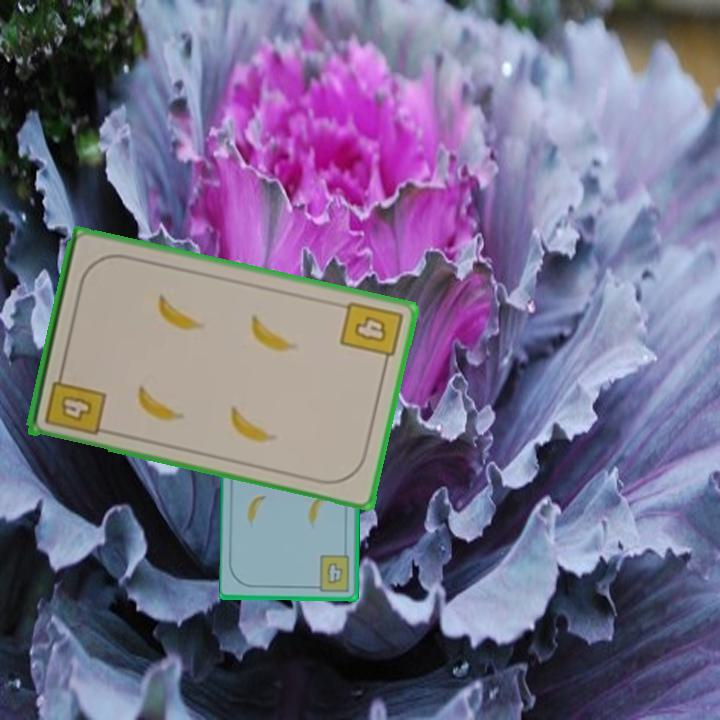4b: (336, 297, 406, 370), (41, 366, 109, 438), (310, 552, 352, 594)
